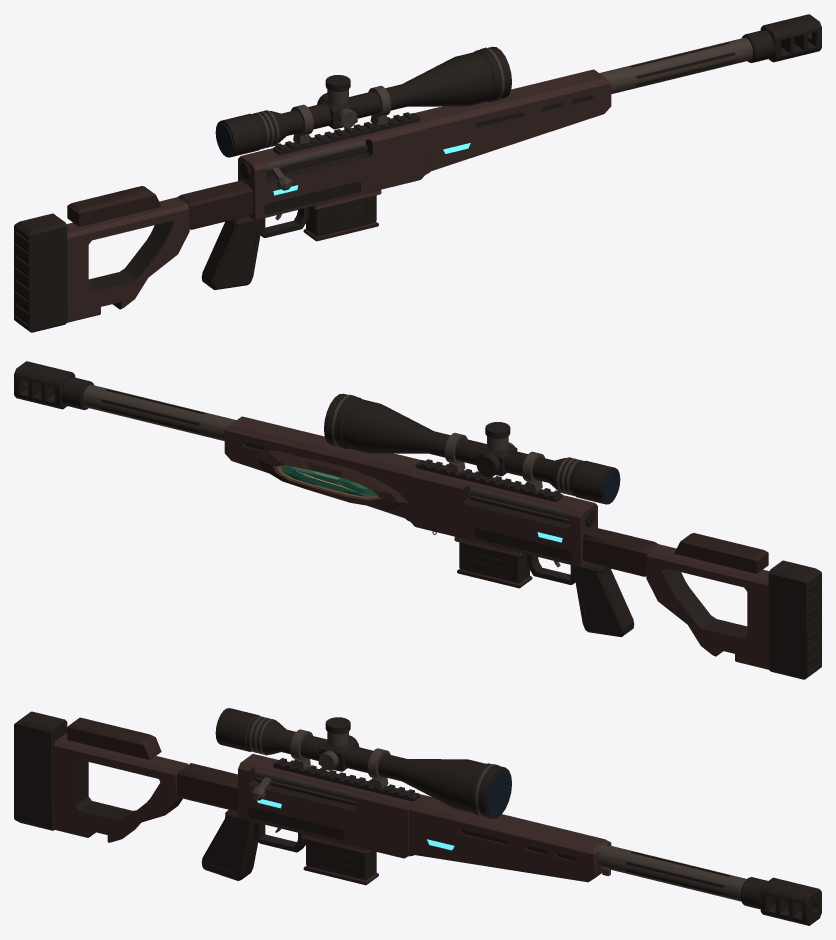
The model's file is Operator_Rootglass_v01.fbx.
3 views of the same model, one above another, from view 1: azimuth 30°, elevation 25°; view 2: azimuth 150°, elevation 25°; view 3: azimuth 330°, elevation 25° (orthographic).
Visible parts, largest first — view 1: Operator_Stock, Operator_Receiver, Operator_Scope, Operator_Handguard, Operator_Barrel, Operator_Grip, Operator_Magazine, Operator_Bolt; view 2: Operator_Stock, Operator_Receiver, Operator_Scope, Operator_Barrel, Operator_Handguard, Operator_Grip, Rootglass_Left_CarvedShell, Operator_Magazine, Rootglass_Left_FacetedMineral, Operator_Bolt; view 3: Operator_Stock, Operator_Receiver, Operator_Scope, Operator_Handguard, Operator_Barrel, Operator_Grip, Operator_Magazine, Operator_Bolt, Operator_ScopeLens.
Boxes of the visible parts, bbox=[...] form: Operator_Stock: bbox=[14, 180, 252, 332]; Operator_Receiver: bbox=[238, 112, 425, 237]; Operator_Scope: bbox=[215, 46, 511, 157]; Operator_Handguard: bbox=[414, 69, 611, 174]; Operator_Barrel: bbox=[599, 14, 821, 93]; Operator_Grip: bbox=[201, 215, 262, 290]; Operator_Magazine: bbox=[303, 195, 378, 241]; Operator_Bolt: bbox=[240, 140, 365, 190]; Operator_Stock: bbox=[583, 527, 821, 679]; Operator_Receiver: bbox=[410, 459, 597, 584]; Operator_Scope: bbox=[324, 393, 620, 504]; Operator_Barrel: bbox=[14, 361, 236, 440]; Operator_Handguard: bbox=[224, 416, 421, 521]; Operator_Grip: bbox=[573, 562, 634, 637]; Rootglass_Left_CarvedShell: bbox=[253, 450, 407, 508]; Operator_Magazine: bbox=[457, 542, 532, 588]; Rootglass_Left_FacetedMineral: bbox=[280, 466, 376, 496]; Operator_Bolt: bbox=[470, 487, 595, 526]; Operator_Stock: bbox=[14, 711, 237, 842]; Operator_Receiver: bbox=[238, 754, 420, 858]; Operator_Scope: bbox=[215, 708, 511, 818]; Operator_Handguard: bbox=[407, 794, 611, 882]; Operator_Barrel: bbox=[597, 844, 821, 925]; Operator_Grip: bbox=[201, 809, 258, 880]; Operator_Magazine: bbox=[303, 839, 378, 885]; Operator_Bolt: bbox=[251, 768, 355, 802]; Operator_ScopeLens: bbox=[487, 770, 511, 816].
Bounding box in the file's own units: 484 × 104 × 31.59.
